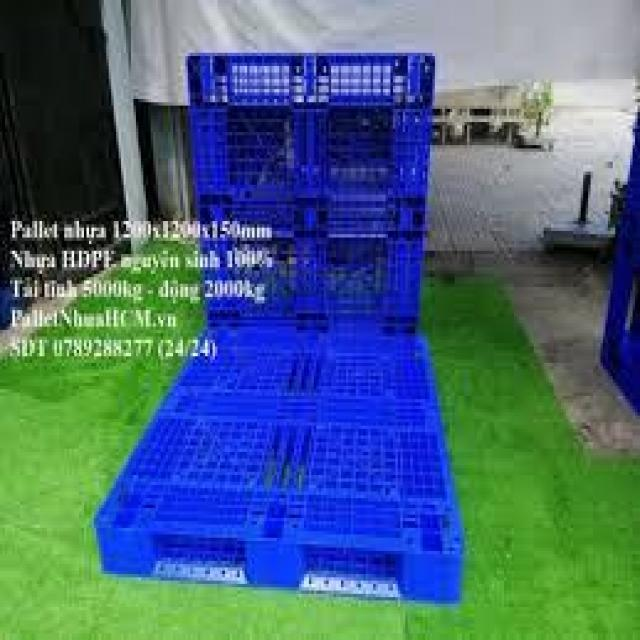block: (400, 547, 468, 606), (244, 533, 306, 588), (96, 525, 154, 580)
front: (90, 513, 471, 611)
